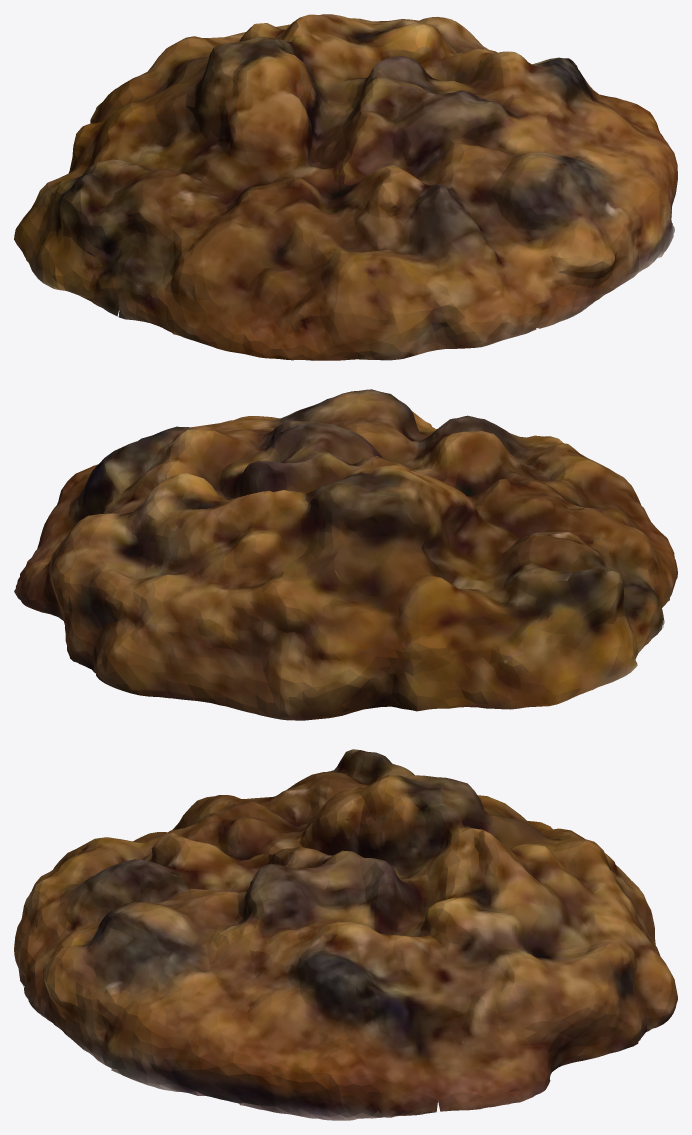
File: oatmeal-raisin-cookies.gltf
3 views of the same model, one above another, from view 1: azimuth 30°, elevation 25°; view 2: azimuth 150°, elevation 25°; view 3: azimuth 270°, elevation 25° (orthographic). The views are drawn at different scales.
Bounding box in the file's own units: 0.2386 × 0.0613 × 0.2275.
Materials: 1 (1 with a texture image).
